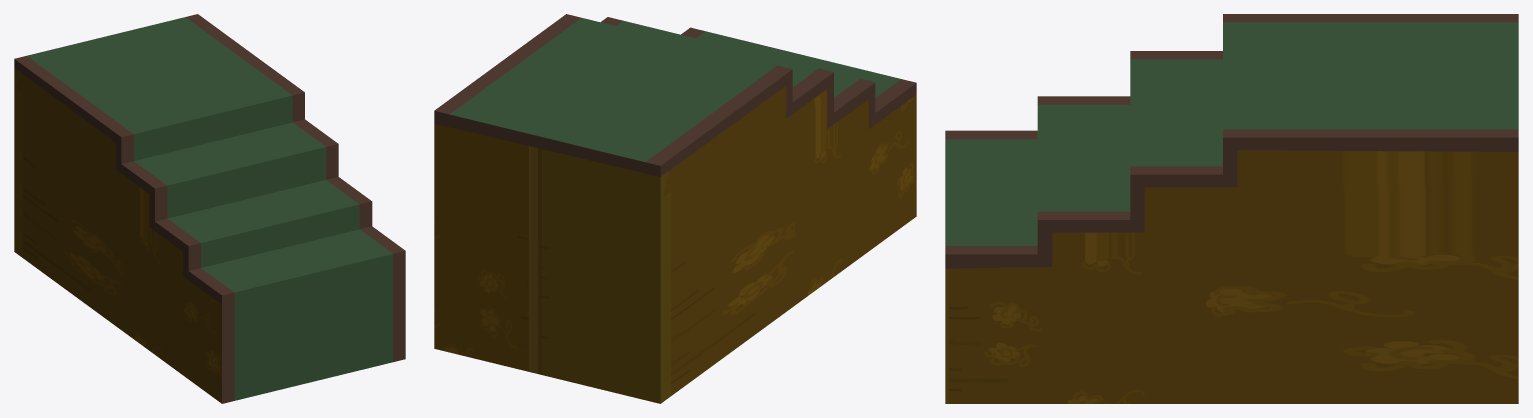
The model's file is stairs1.gltf.
3 views of the same model, side by side, from view 1: azimuth 30°, elevation 25°; view 2: azimuth 150°, elevation 25°; view 3: azimuth 270°, elevation 25° (orthographic). The views are drawn at different scales.
Visible parts, largest first — view 1: Cube.003; view 2: Cube.003; view 3: Cube.003.
Part boxes in pixels (bbox=[...]): Cube.003: bbox=[14, 14, 405, 403]; Cube.003: bbox=[434, 14, 916, 403]; Cube.003: bbox=[945, 14, 1518, 403].
Bounding box in the file's own units: 1.78 × 1.79 × 3.49.
Materials: 2 (1 with a texture image).
